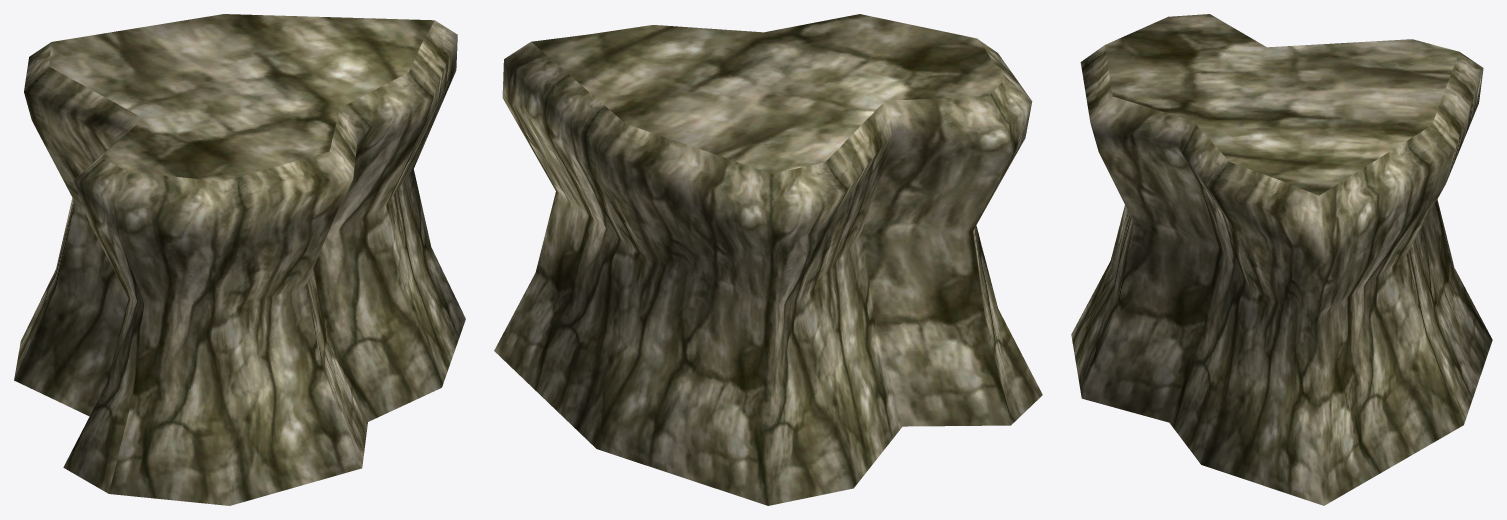
File: CB_NEWPLAYSURFACE_CB_PLAYSURFACE07.fbx
The picture shows the model from 3 angles, left to right: view 1: azimuth 30°, elevation 25°; view 2: azimuth 150°, elevation 25°; view 3: azimuth 270°, elevation 25°; orthographic projection. The views are drawn at different scales.
Parts seen in each view (by area): view 1: CB_NEWPLAYSURFACE_CB_PLAYSURFACE07; view 2: CB_NEWPLAYSURFACE_CB_PLAYSURFACE07; view 3: CB_NEWPLAYSURFACE_CB_PLAYSURFACE07.
Part boxes in pixels (x1,y1,x2,y2): CB_NEWPLAYSURFACE_CB_PLAYSURFACE07: [14, 14, 465, 505]; CB_NEWPLAYSURFACE_CB_PLAYSURFACE07: [494, 14, 1042, 505]; CB_NEWPLAYSURFACE_CB_PLAYSURFACE07: [1071, 14, 1492, 505].
Bounding box in the file's own units: 71218 × 46271 × 60013.
Materials: 2 (2 with a texture image).
